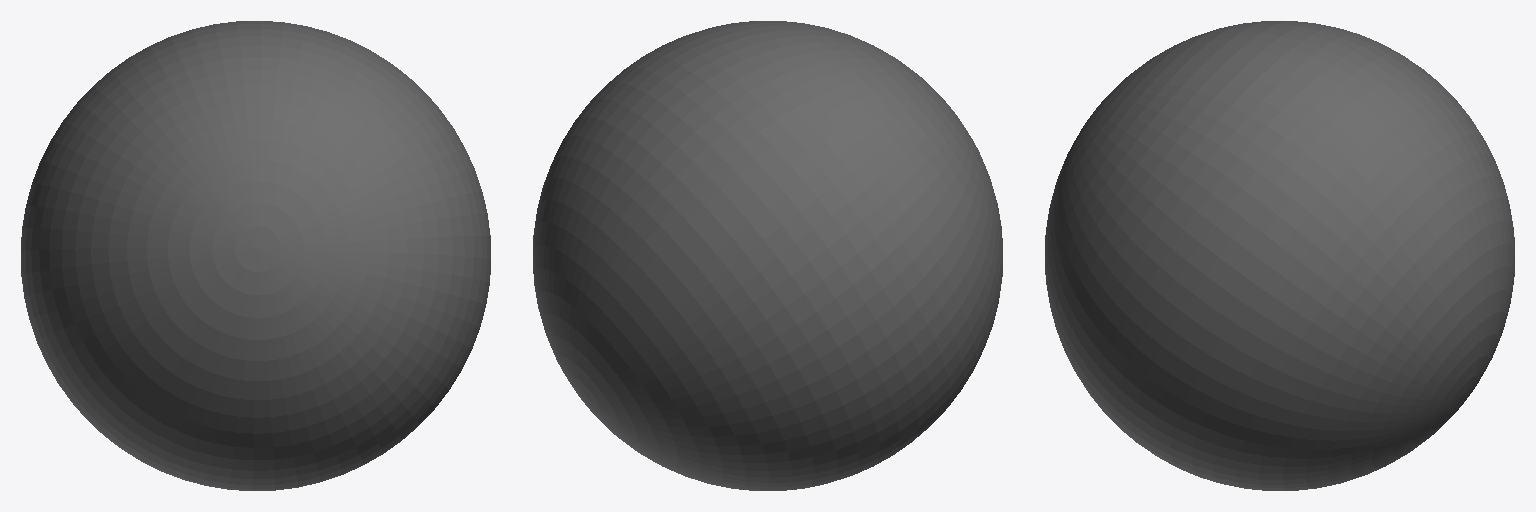
The model's file is Sphere_Client.obj.
3 renders of one model, left to right at view 1: azimuth 30°, elevation 25°; view 2: azimuth 150°, elevation 25°; view 3: azimuth 270°, elevation 25°, orthographic.
Parts seen in each view (by area): view 1: Sphere002; view 2: Sphere002; view 3: Sphere002.
Boxes of the visible parts, x1,y1,x2,y2 form: Sphere002: [21, 21, 490, 490]; Sphere002: [533, 21, 1002, 490]; Sphere002: [1045, 21, 1514, 490].
Size of the model in its own units: 38.67 by 38.68 by 38.69.